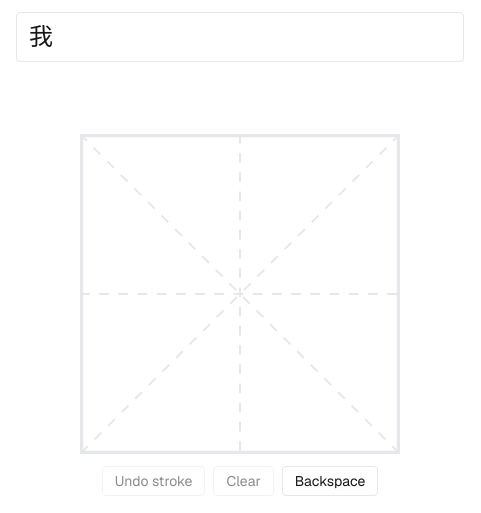
it: HanziPad › recognises the strokes after a pause and appends the picked candidate
Press the mouse on the picture named "Drawing pad" at (240, 294), box [80,134,400,454]
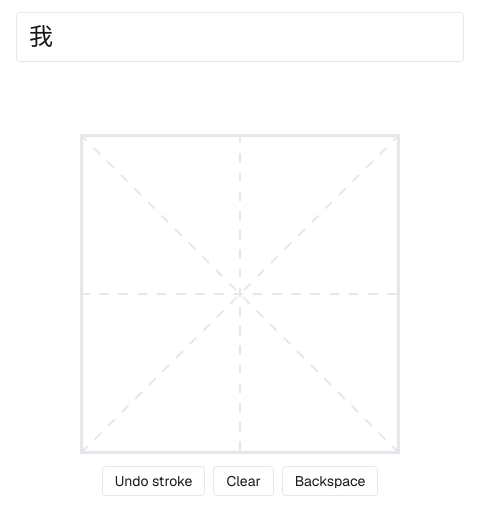
Press the mouse on the picture named "Drawing pad" at (240, 294), box [80,134,400,454]
Wait 300 ms
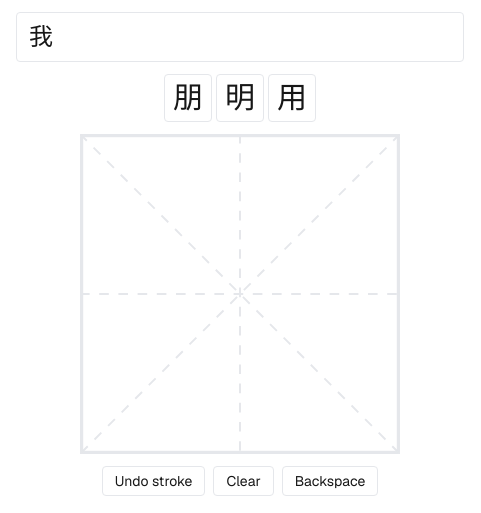
Click the button "朋".
click(188, 98)  # box [164,74,212,122]
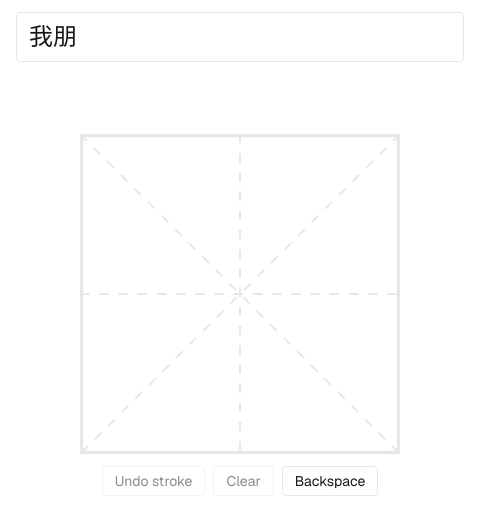
Expected: the field named "Answer" holds "我朋", [16,12,464,62]
Expected: the button "明" is gone
Expected: the button "Clear" is disabled, [214,466,274,496]
